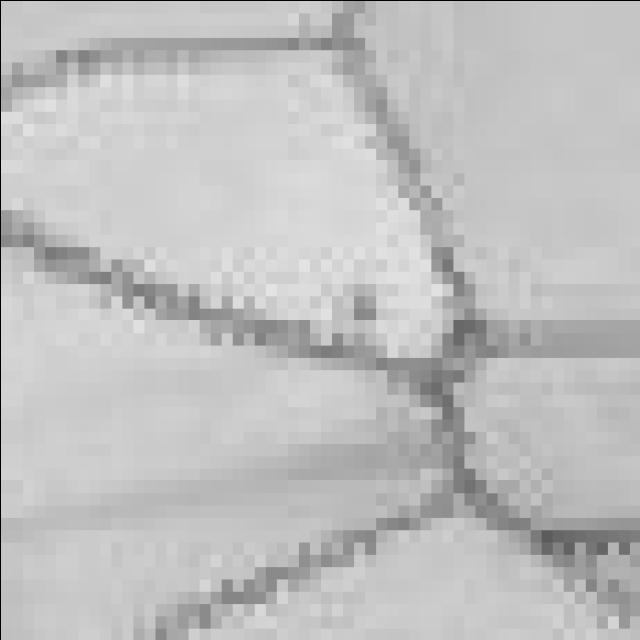good_void: (328, 276, 396, 338)
